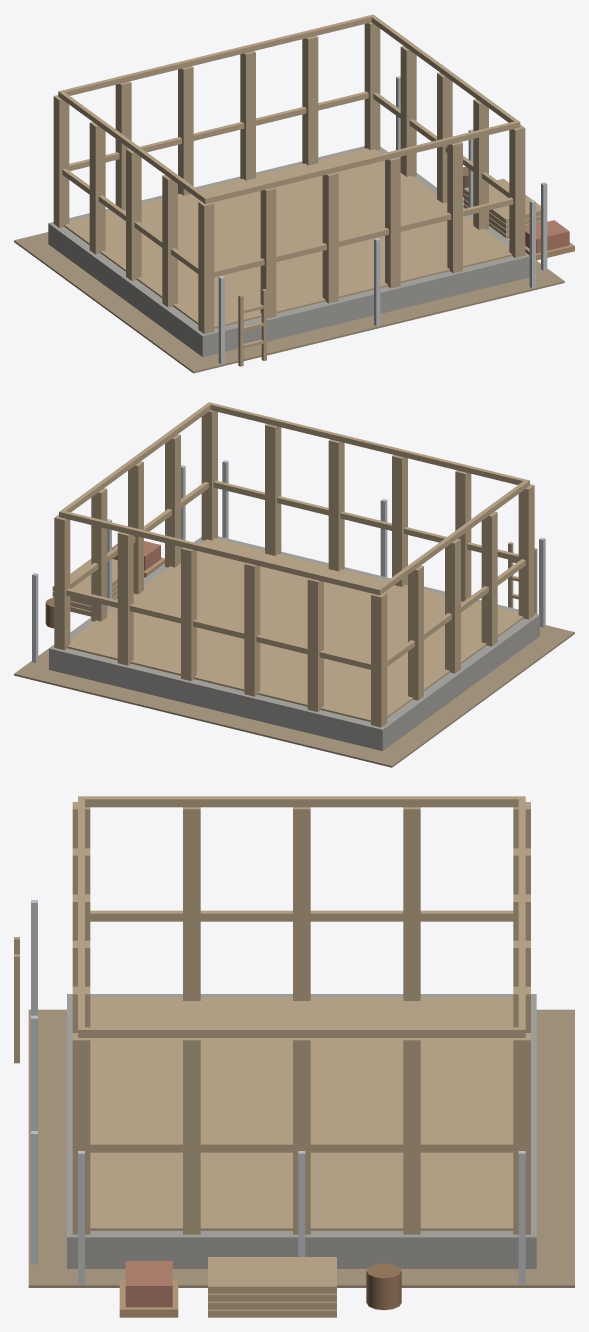
Rendered from garage_site_4.glb.
The picture shows the model from 3 angles, top to bottom: view 1: azimuth 30°, elevation 25°; view 2: azimuth 150°, elevation 25°; view 3: azimuth 270°, elevation 25°; orthographic projection. The views are drawn at different scales.
Visible parts, largest first — view 1: body; view 2: body; view 3: body.
Part boxes in pixels (bbox=[...]): body: bbox=[14, 14, 574, 373]; body: bbox=[14, 402, 574, 767]; body: bbox=[14, 796, 574, 1317].
Size of the model in its own units: 2.46 by 0.89 by 1.91.
